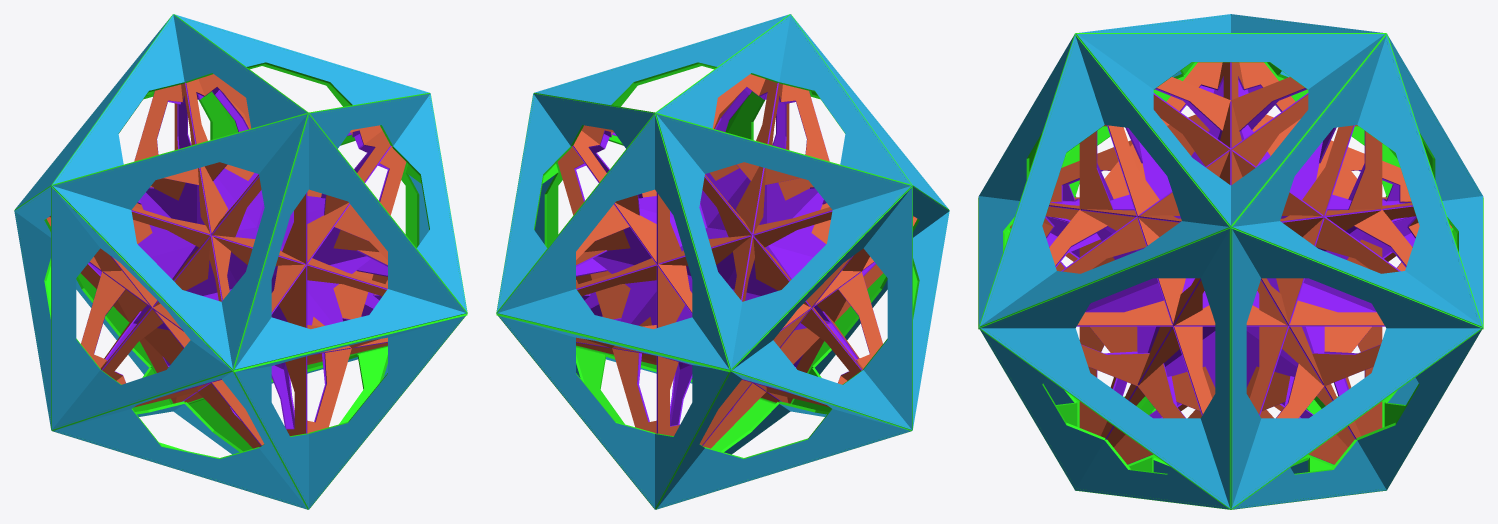
The model's file is GreatDodecahedronS1.glb.
3 renders of one model, left to right at view 1: azimuth 30°, elevation 25°; view 2: azimuth 150°, elevation 25°; view 3: azimuth 270°, elevation 25°, orthographic. The views are drawn at different scales.
Visible parts, largest first — view 1: Mesh_0.003, Mesh_0.002; view 2: Mesh_0.003, Mesh_0.002; view 3: Mesh_0.003, Mesh_0.002.
Part boxes in pixels (x1,y1,x2,y2): Mesh_0.003: (14, 14, 467, 509); Mesh_0.002: (46, 74, 406, 448); Mesh_0.003: (496, 14, 949, 509); Mesh_0.002: (557, 74, 917, 448); Mesh_0.003: (978, 14, 1483, 509); Mesh_0.002: (1010, 62, 1451, 464).
Bounding box in the file's own units: 7.74 × 7.74 × 7.75.
